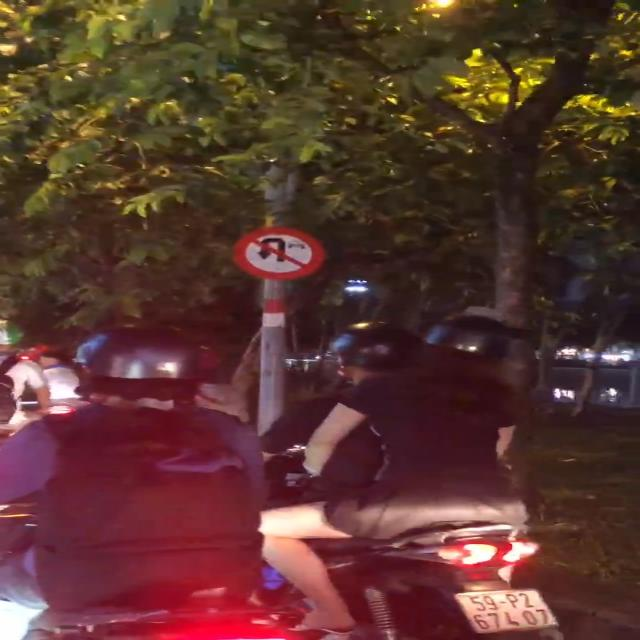Bien bao cam quay dau xe: (228, 224, 326, 282)
